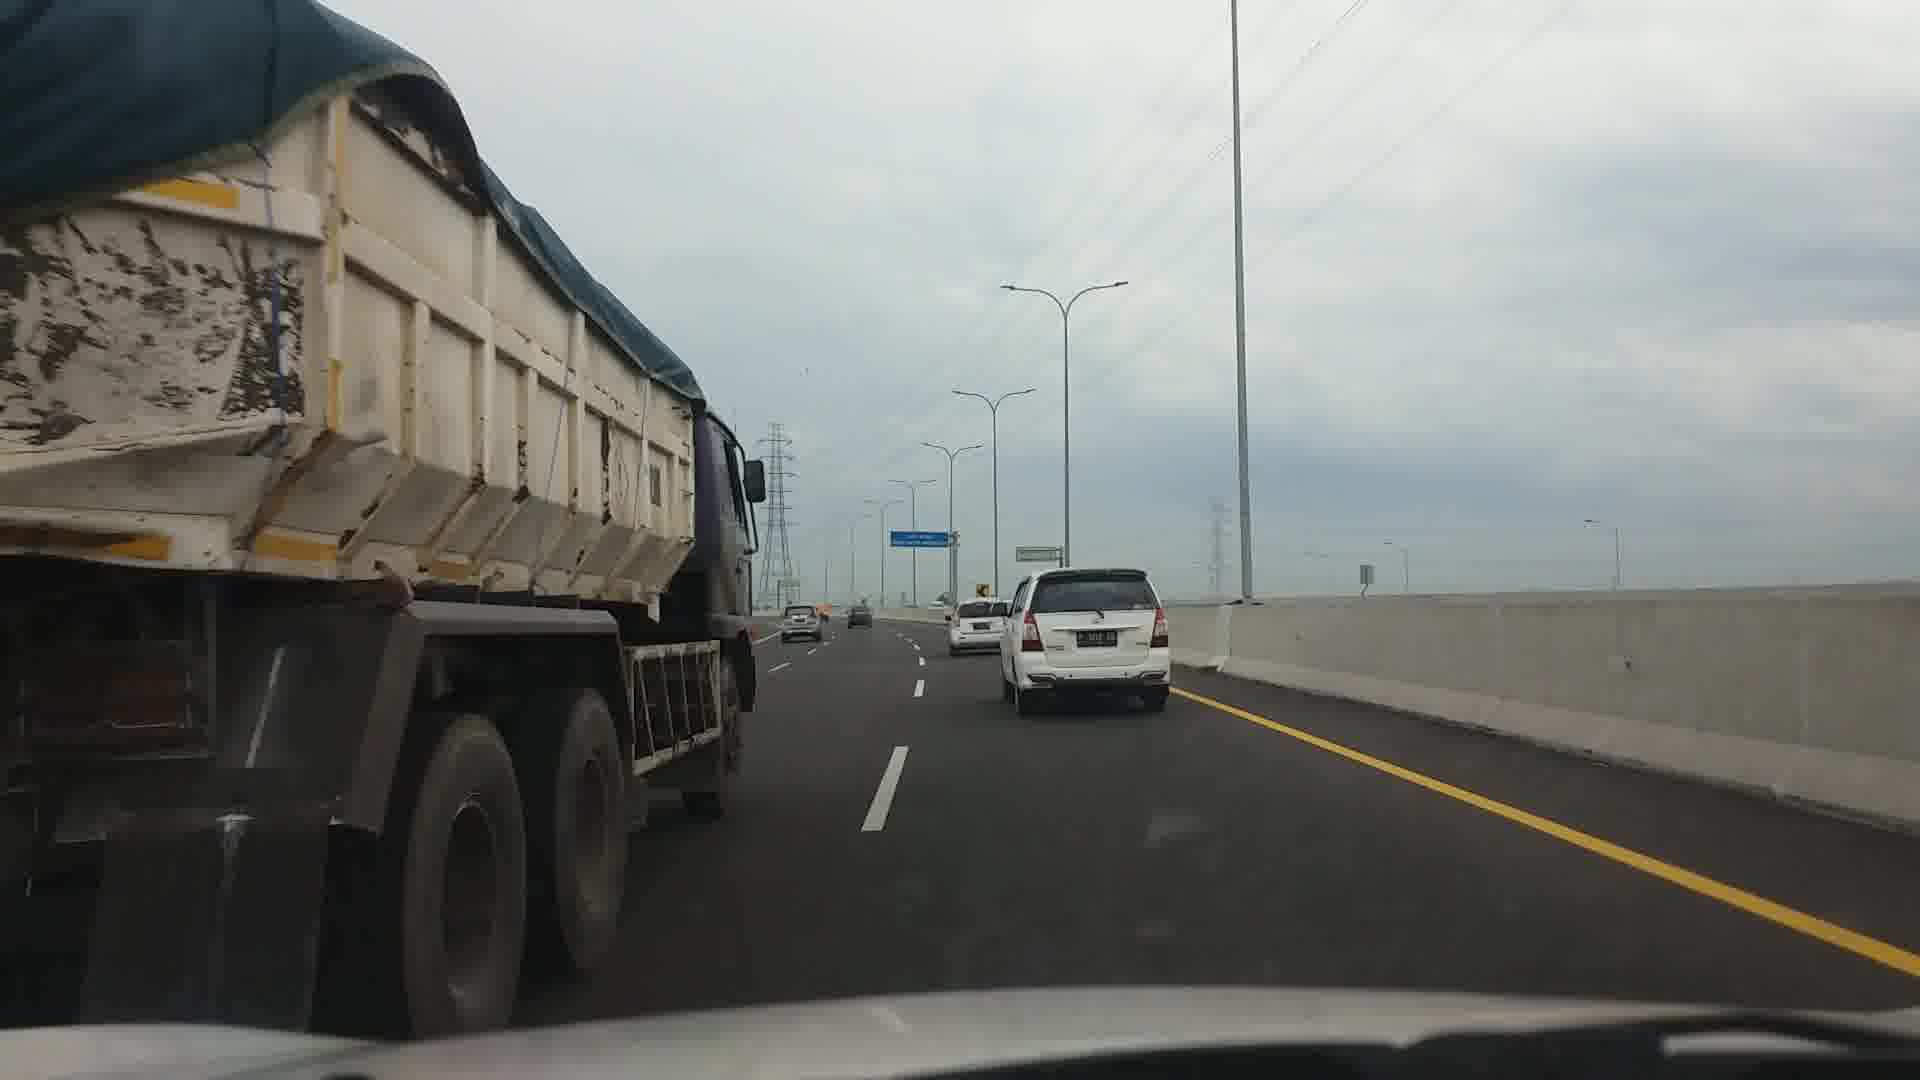plate_positive: (1077, 632, 1117, 647), (975, 622, 992, 630)
